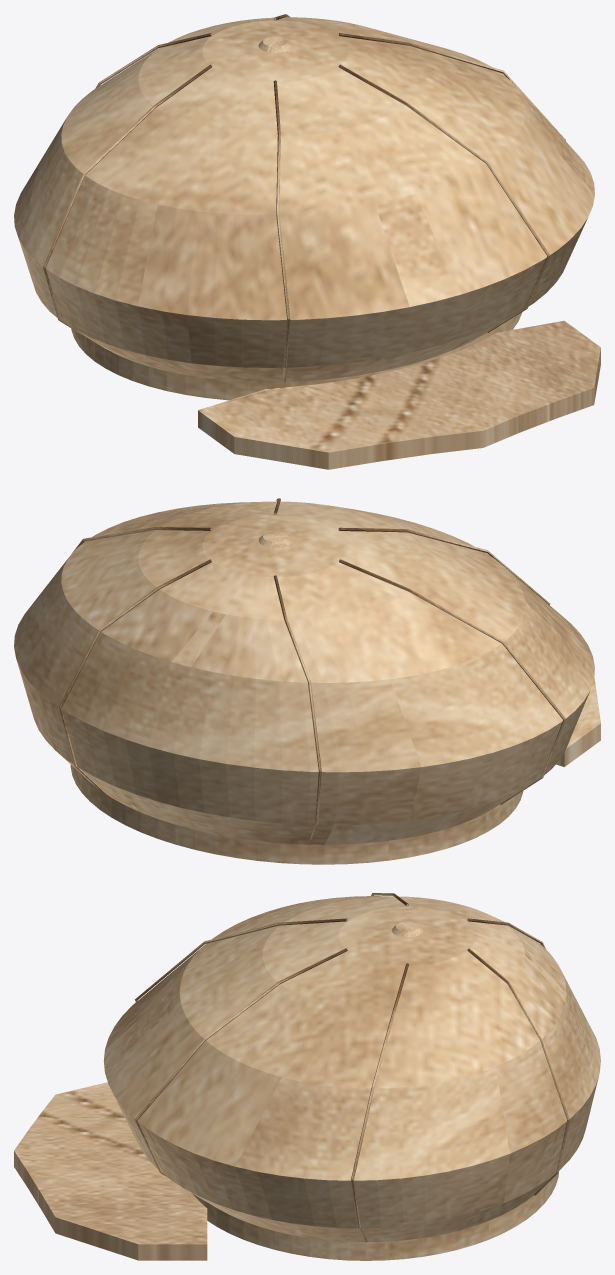
The picture shows the model from 3 angles, top to bottom: view 1: azimuth 30°, elevation 25°; view 2: azimuth 150°, elevation 25°; view 3: azimuth 270°, elevation 25°; orthographic projection. The views are drawn at different scales.
Visible parts, largest first — view 1: hollow_crown_and_rim, curved_visor, panel_seam_5, panel_seam_3, panel_seam_4, panel_seam_0; view 2: hollow_crown_and_rim, curved_visor, panel_seam_3, panel_seam_1, panel_seam_2, panel_seam_4, panel_seam_0; view 3: hollow_crown_and_rim, curved_visor, panel_seam_5, panel_seam_0, panel_seam_1, panel_seam_4.
Part boxes in pixels (box(x1,y1,x2,y2)): hollow_crown_and_rim: box(14, 17, 594, 400); curved_visor: box(198, 320, 600, 469); panel_seam_5: box(338, 64, 550, 332); panel_seam_3: box(43, 64, 211, 341); panel_seam_4: box(273, 80, 290, 382); panel_seam_0: box(339, 33, 565, 140); hollow_crown_and_rim: box(14, 501, 594, 864); curved_visor: box(556, 677, 600, 766); panel_seam_3: box(339, 559, 565, 804); panel_seam_1: box(58, 559, 211, 795); panel_seam_2: box(273, 575, 321, 844); panel_seam_4: box(338, 527, 550, 604); panel_seam_0: box(72, 527, 211, 553); hollow_crown_and_rim: box(103, 896, 600, 1260); curved_visor: box(14, 1082, 207, 1260); panel_seam_5: box(135, 948, 347, 1176); panel_seam_0: box(351, 963, 408, 1242); panel_seam_1: box(467, 948, 569, 1195); panel_seam_4: box(135, 918, 347, 1001).
Size of the model in its own units: 98 by 47.2 by 101.
3 materials, 3 textured.
